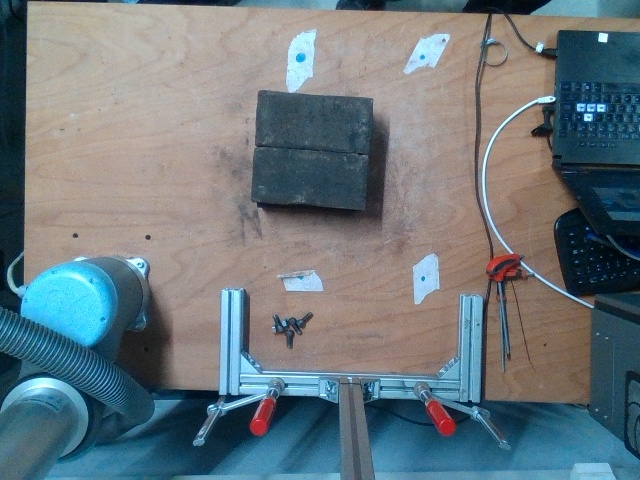brick: (251, 148, 370, 208), (256, 92, 371, 149)
